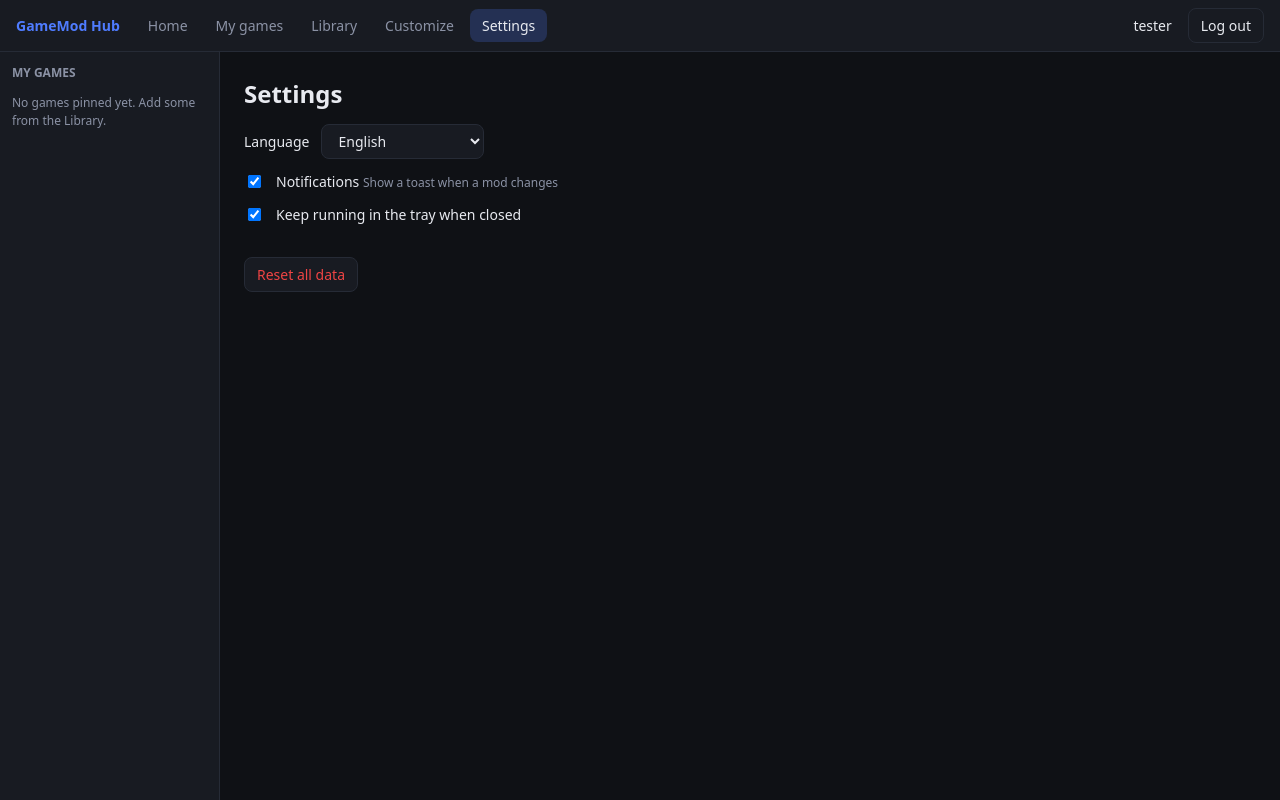
Test case: settings › switches language to Indonesian
Select "Bahasa Indonesia" in the dropdown labelled "Language" at [403, 142], box x1=322 y1=124 x2=484 y2=159
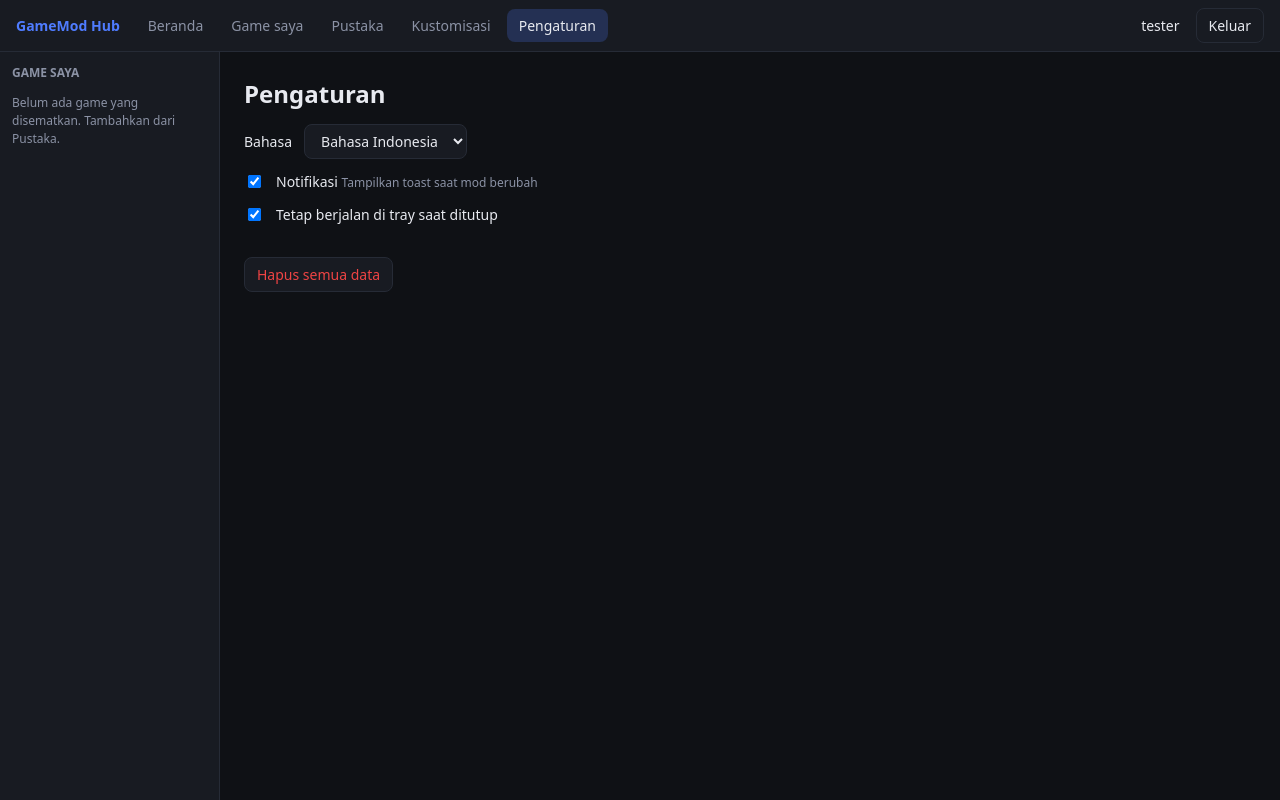
Expected: the heading "Pengaturan" is shown, x1=244 y1=77 x2=386 y2=110
